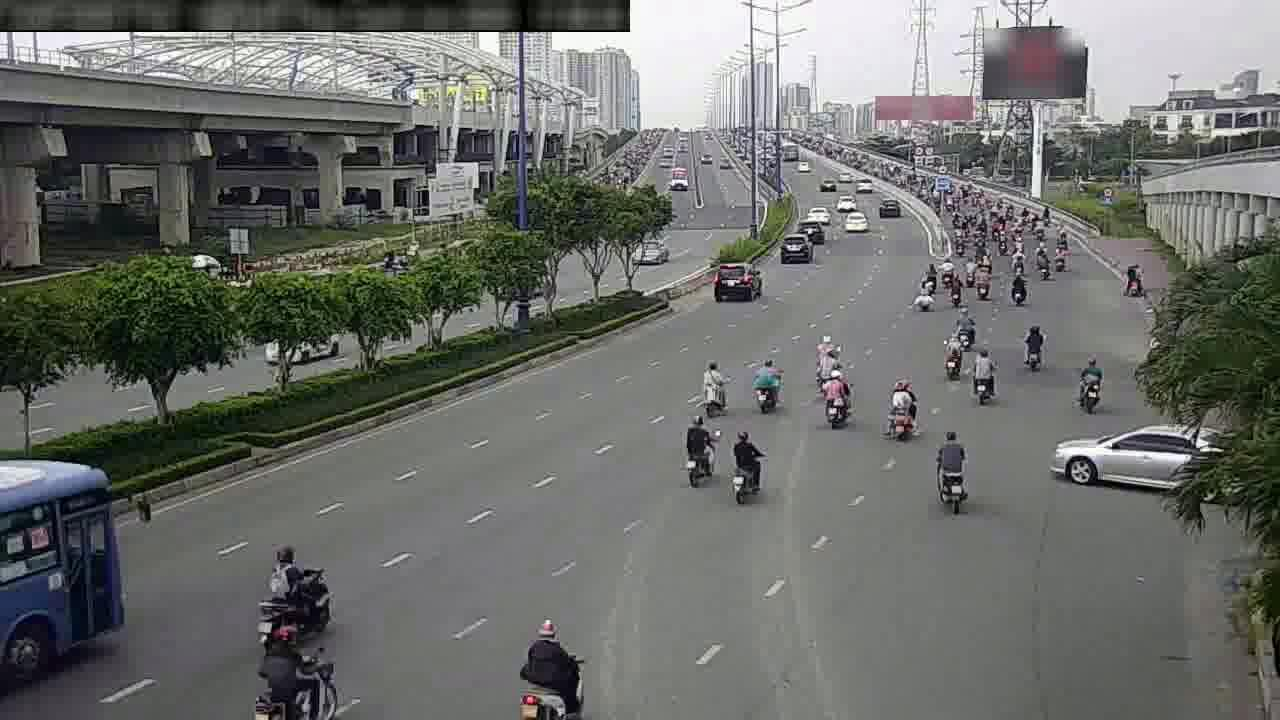14: (0, 466, 124, 659)
container: (1053, 407, 1233, 501), (709, 258, 763, 304), (774, 228, 813, 265), (798, 210, 831, 239)
motorbike: (254, 543, 336, 642), (515, 612, 589, 714), (254, 631, 339, 717), (925, 429, 977, 514), (722, 427, 768, 505), (676, 409, 719, 485), (876, 378, 919, 444), (746, 353, 785, 416), (695, 356, 732, 415), (965, 349, 1000, 404), (1014, 319, 1049, 372), (935, 330, 967, 381), (1079, 358, 1106, 414), (823, 375, 847, 435), (1116, 260, 1149, 303), (814, 337, 838, 391), (950, 307, 979, 348), (1004, 267, 1030, 308), (909, 275, 936, 314), (943, 272, 969, 310), (970, 267, 995, 304), (1033, 247, 1055, 282), (923, 259, 944, 290)
